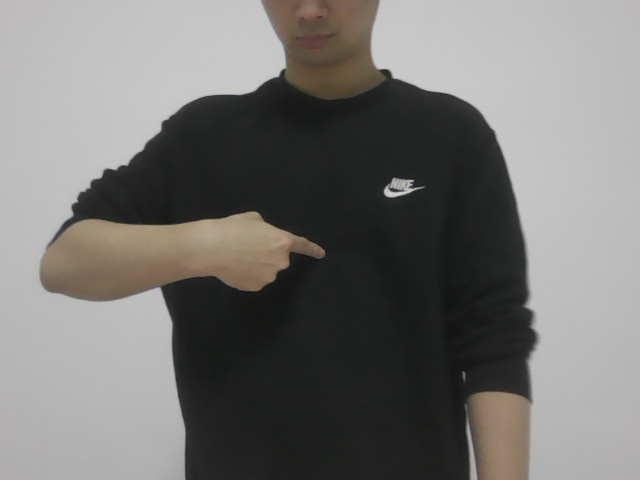I/me: (194, 197, 333, 302)
